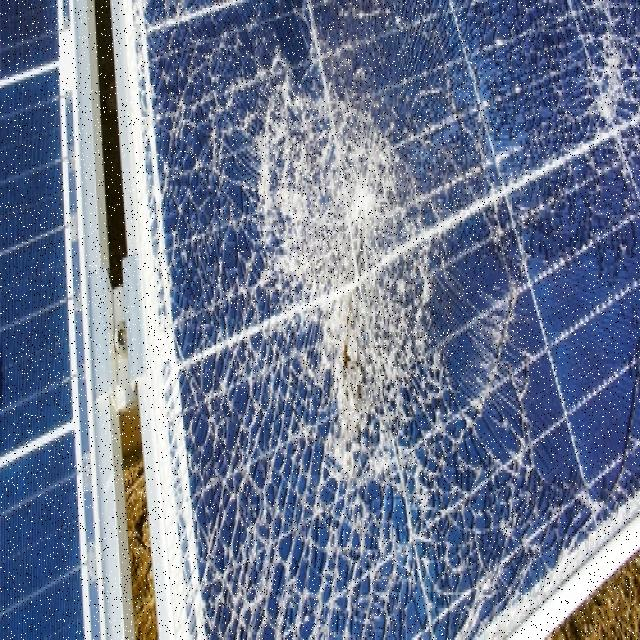physical damage: (144, 16, 602, 628)
